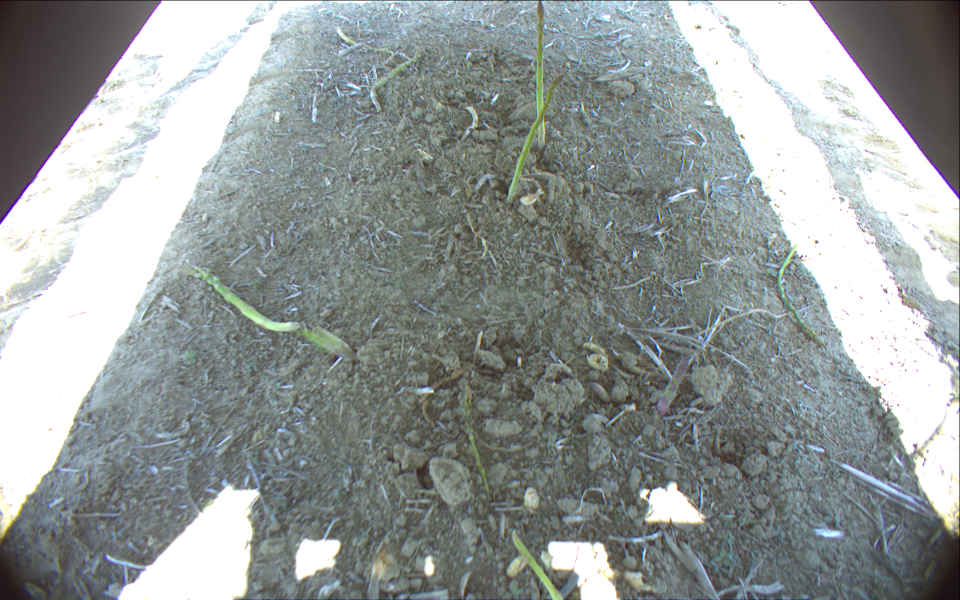aspa: (776, 216, 840, 345), (183, 264, 301, 332), (505, 74, 566, 204), (512, 530, 564, 600), (370, 53, 421, 113), (335, 29, 395, 66), (300, 323, 356, 361), (657, 354, 689, 416), (534, 1, 546, 151)
